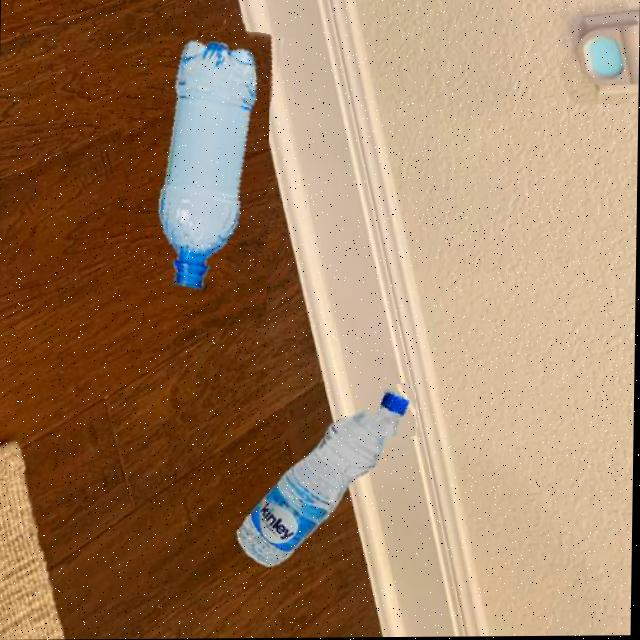plasticbottle: (107, 17, 270, 329)
plasticbottlecap: (367, 385, 416, 437)
